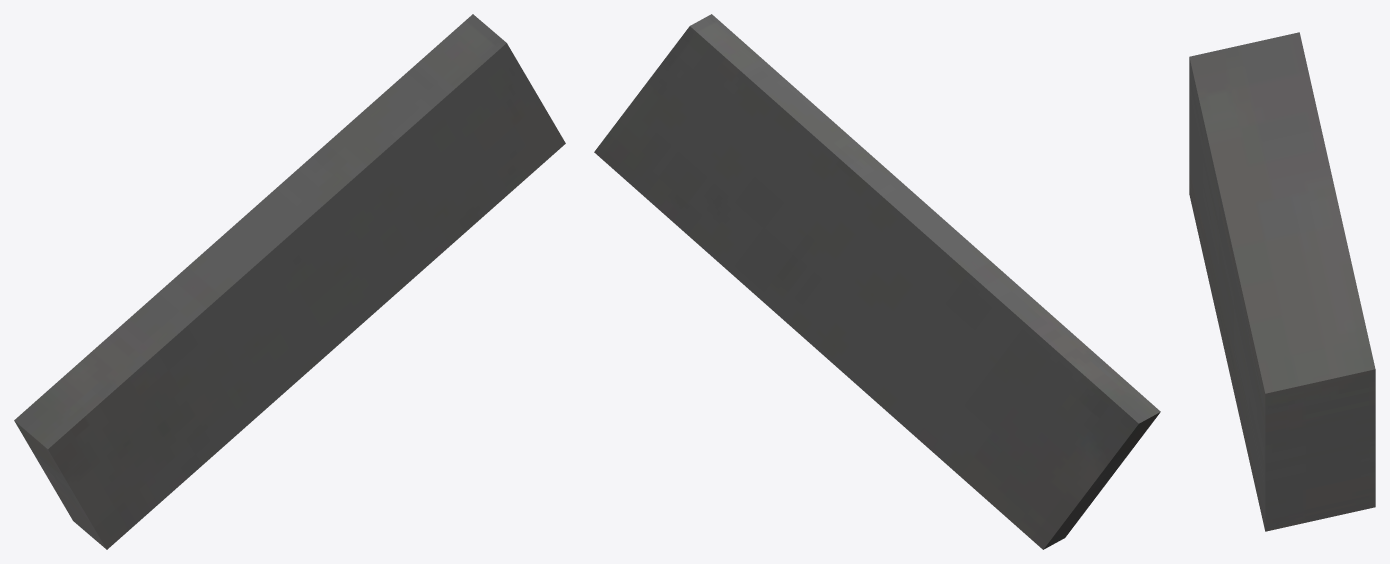
Rendered from fan_center__blade_0.glb.
3 views of the same model, side by side, from view 1: azimuth 30°, elevation 25°; view 2: azimuth 150°, elevation 25°; view 3: azimuth 270°, elevation 25° (orthographic). The views are drawn at different scales.
Parts seen in each view (by area): view 1: world; view 2: world; view 3: world.
Part boxes in pixels (left/top/right/bottom): world: left=14, top=14, right=565, bottom=549; world: left=594, top=14, right=1160, bottom=549; world: left=1189, top=32, right=1375, bottom=531.
Bounding box in the file's own units: 0.0282 × 0.0218 × 0.00428.
1 material, 1 textured.
